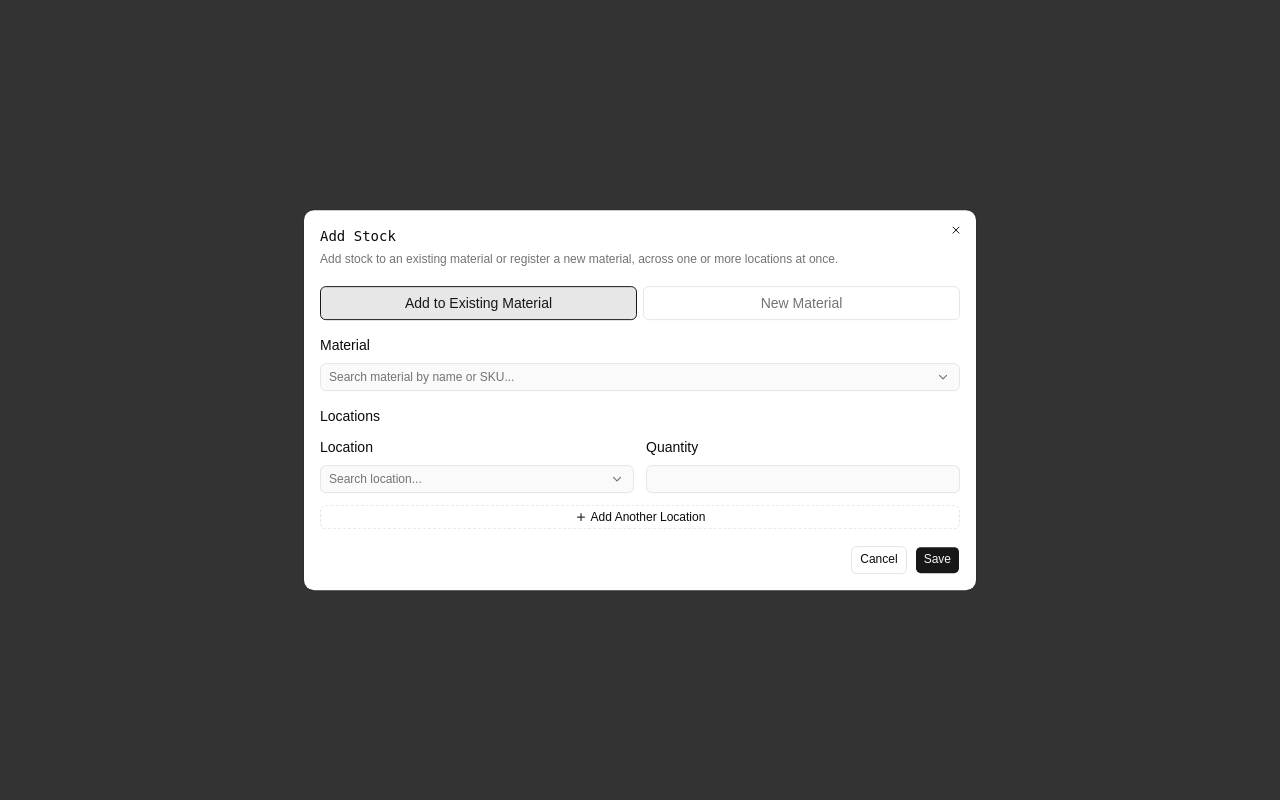
Test: AddStockDialog › filters the material list by the typed search text
This screenshot has width=1280, height=800.
Press the mouse on the dropdown with placeholder "Search material by name or SKU..." at (626, 377), box [321, 363, 931, 391]
Press the mouse on the dropdown with placeholder "Search material by name or SKU..." at (626, 377), box [321, 363, 931, 391]
Type "Wool" into the dropdown with placeholder "Search material by name or SKU..." at (626, 377), box [321, 363, 931, 391]
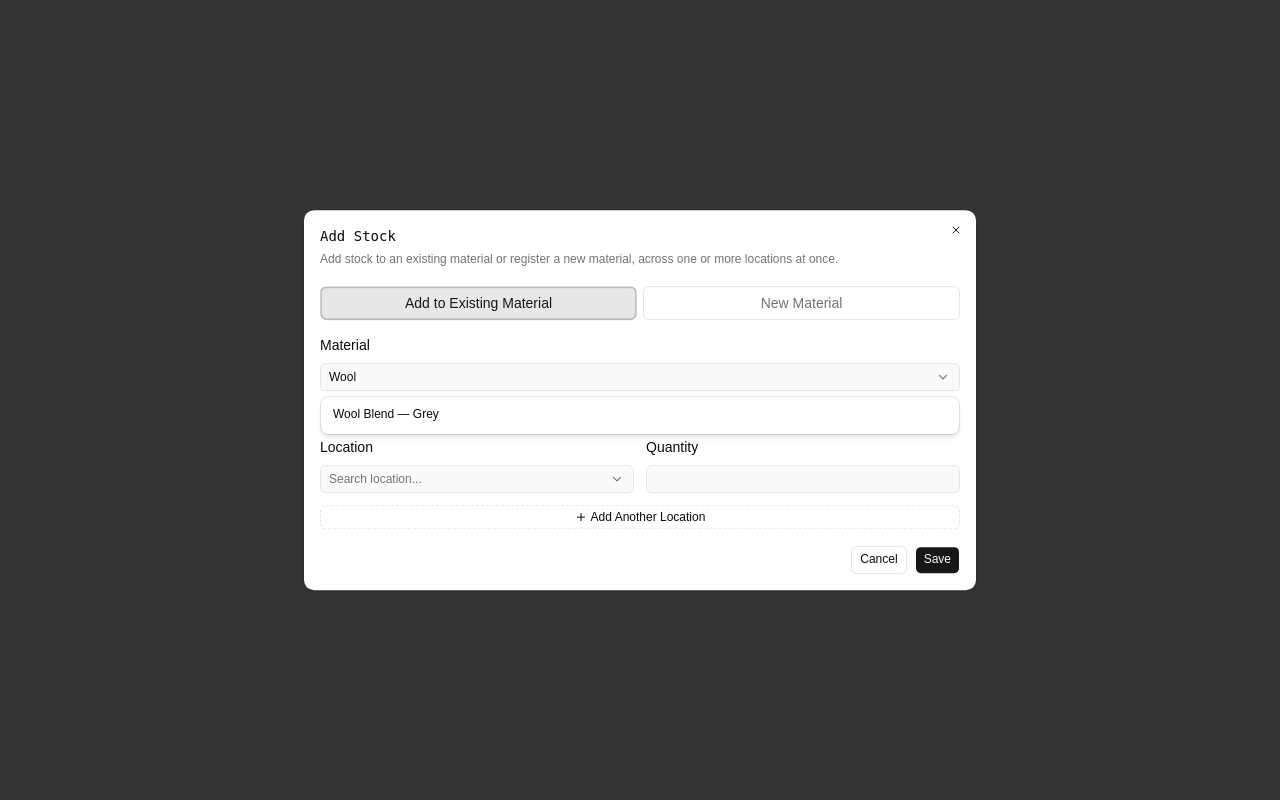
Now the option "Wool Blend — Grey" is shown, box [333, 407, 439, 421]
